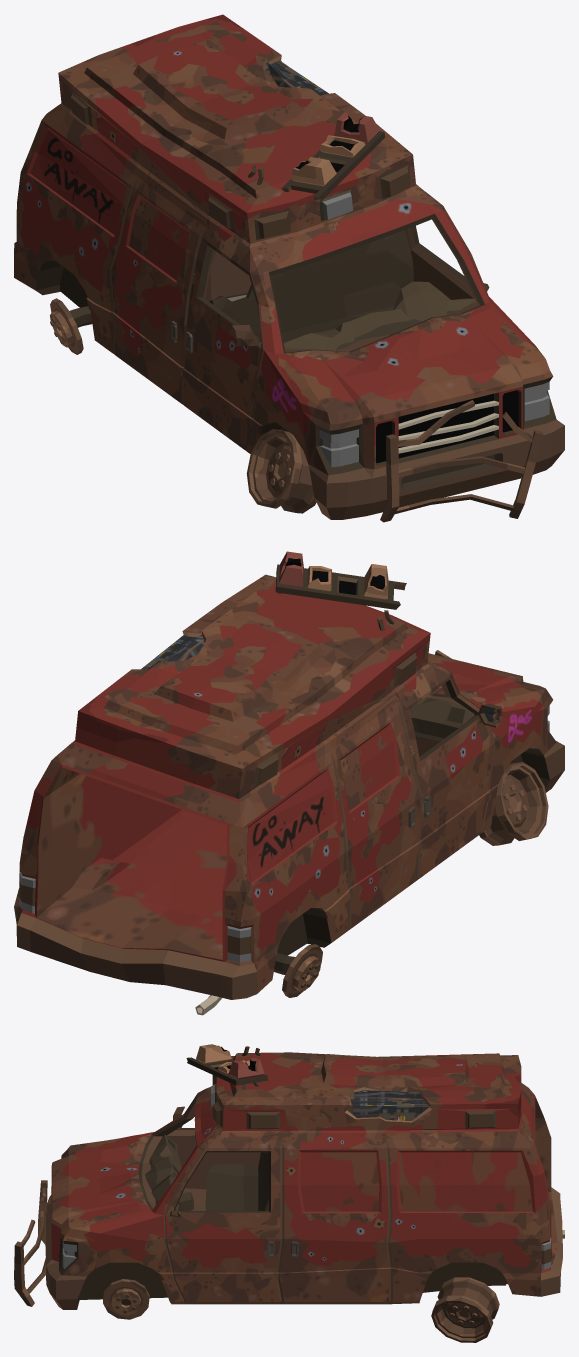
The model's file is SM_Prop_Vehicle_Wrecked_01.obj.
The picture shows the model from 3 angles, top to bottom: view 1: azimuth 30°, elevation 25°; view 2: azimuth 150°, elevation 25°; view 3: azimuth 270°, elevation 25°; orthographic projection. The views are drawn at different scales.
Parts seen in each view (by area): view 1: SM_Prop_Vehicle_Wrecked_01_0; view 2: SM_Prop_Vehicle_Wrecked_01_0; view 3: SM_Prop_Vehicle_Wrecked_01_0.
Boxes of the visible parts, x1,y1,x2,y2 form: SM_Prop_Vehicle_Wrecked_01_0: [14, 14, 564, 522]; SM_Prop_Vehicle_Wrecked_01_0: [14, 551, 564, 1015]; SM_Prop_Vehicle_Wrecked_01_0: [14, 1044, 564, 1342].
Size of the model in its own units: 2.61 by 2.62 by 5.33.
1 material, 1 textured.
